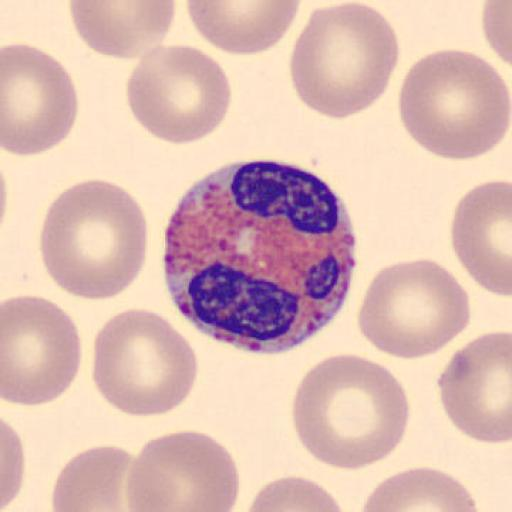RBC: (289, 352, 412, 472), (38, 177, 150, 303), (396, 47, 510, 163), (289, 1, 401, 119), (90, 307, 200, 419), (356, 257, 472, 361), (124, 42, 232, 146), (126, 429, 242, 512), (1, 294, 84, 408), (2, 42, 80, 158), (436, 331, 512, 445), (449, 178, 512, 298), (68, 0, 178, 62), (185, 0, 303, 56), (50, 443, 138, 512), (359, 465, 482, 512), (244, 474, 348, 512), (0, 417, 26, 511), (480, 0, 512, 66)
WBC: (162, 157, 361, 356)
